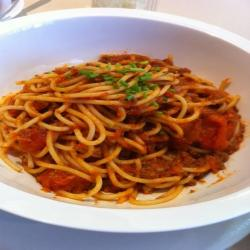bolonese_pasta: (2, 45, 240, 220)
